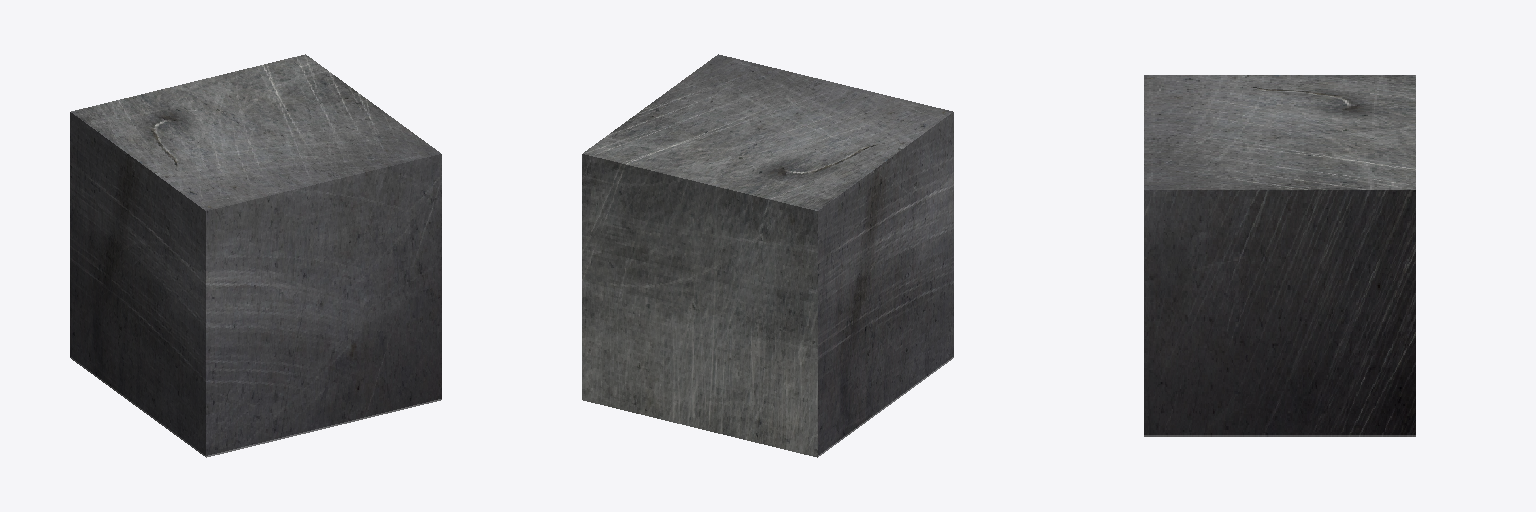
3 renders of one model, left to right at view 1: azimuth 30°, elevation 25°; view 2: azimuth 150°, elevation 25°; view 3: azimuth 270°, elevation 25°, orthographic.
Visible parts, largest first — view 1: default; view 2: default; view 3: default.
Boxes of the visible parts, <box> form: default: <box>70,54,441,457</box>; default: <box>582,54,953,457</box>; default: <box>1144,75,1415,436</box>.
Bounding box in the file's own units: 1 × 1 × 1.
1 materials, 1 textured.